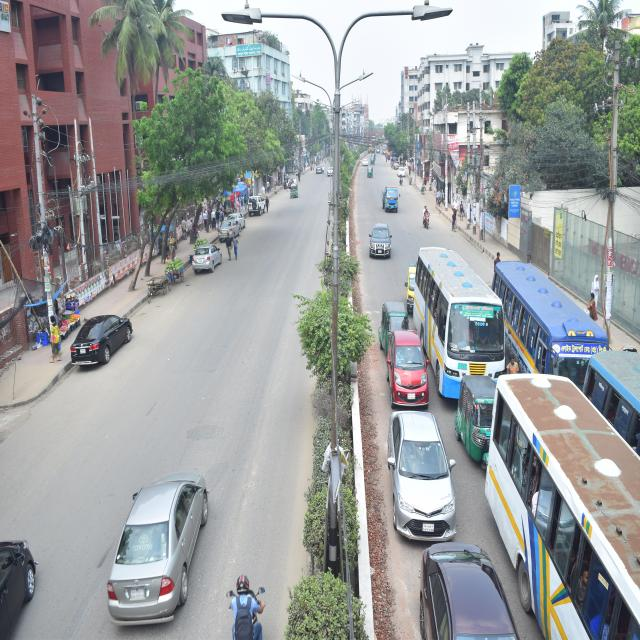bus: (483, 364, 640, 640), (488, 239, 614, 384), (411, 239, 509, 385), (578, 344, 640, 465)
car: (101, 443, 217, 626), (385, 399, 464, 546), (413, 539, 523, 640), (0, 517, 51, 640), (378, 324, 434, 408), (185, 239, 233, 280), (363, 216, 392, 266), (242, 189, 275, 224), (214, 218, 243, 246), (311, 161, 325, 180), (360, 156, 371, 168)
motorbike: (218, 573, 290, 640), (421, 202, 437, 234)
truck: (379, 175, 403, 224)
